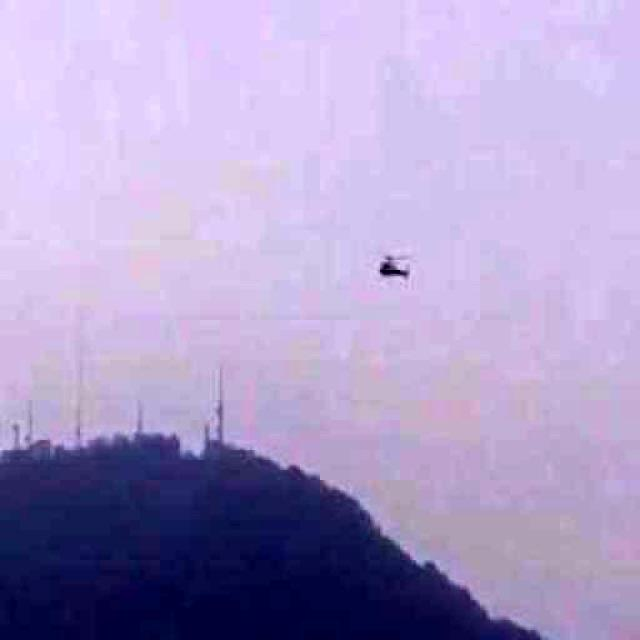drone: (345, 219, 425, 302)
